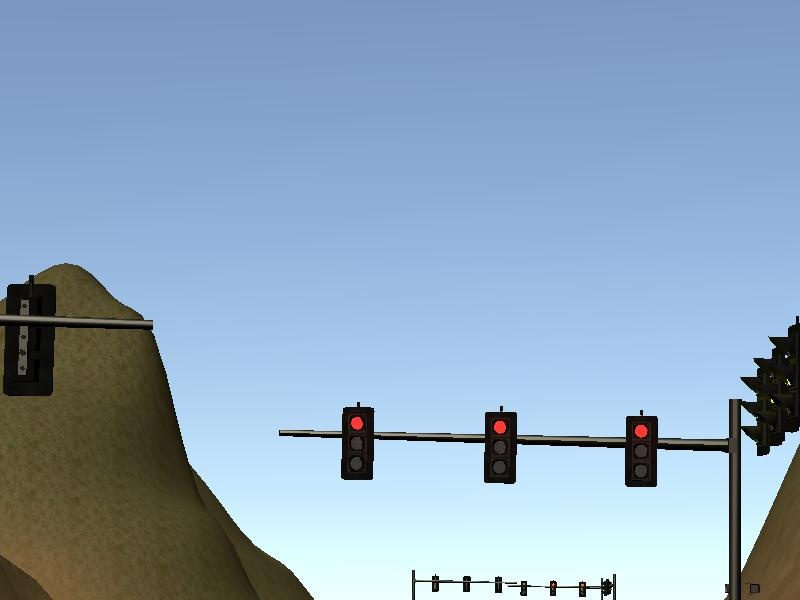red: (480, 403, 524, 491), (339, 403, 380, 484), (621, 411, 660, 494)
